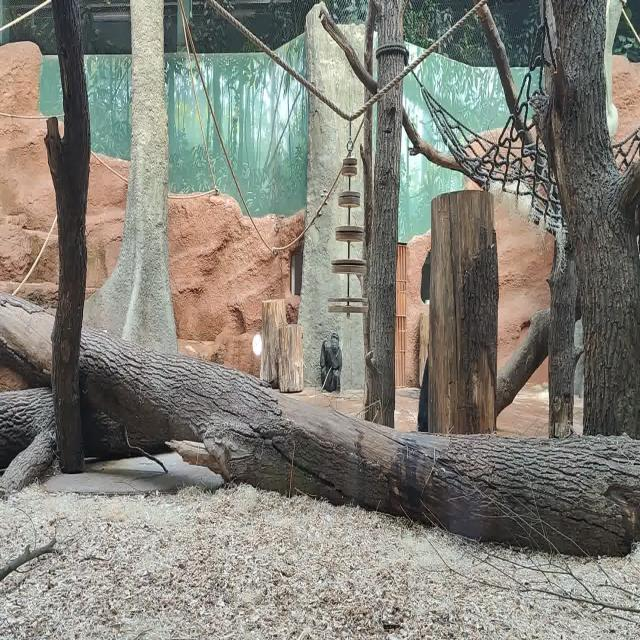monkey: (320, 332, 342, 392)
